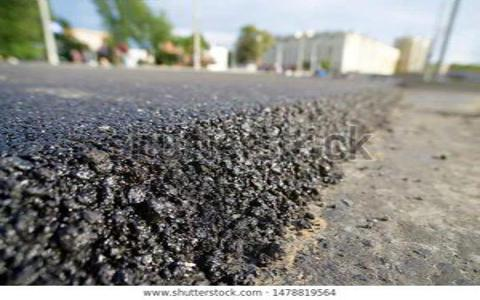Proper road: (35, 64, 246, 131)
